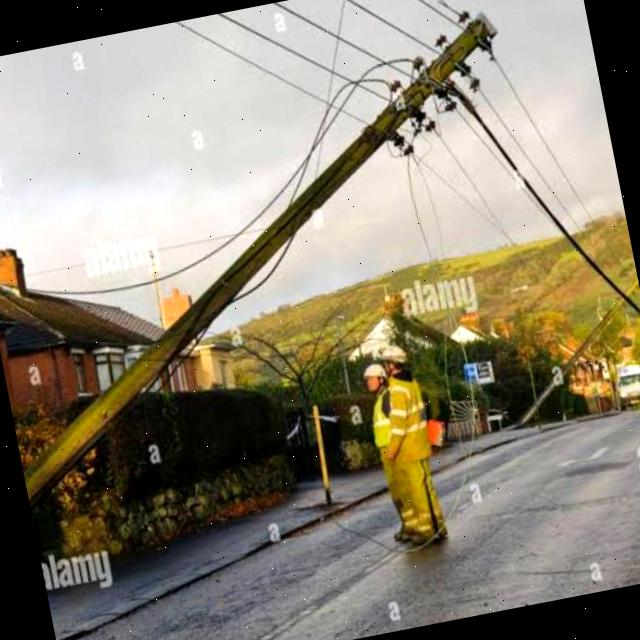Broken Pole: (0, 0, 581, 520)
